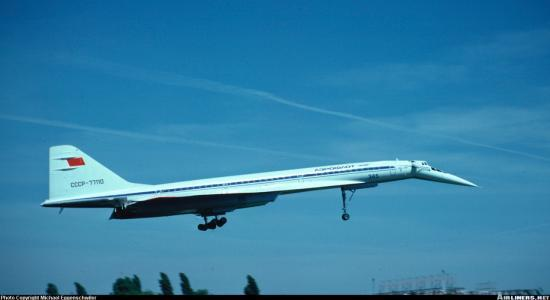airplane: (38, 132, 479, 233)
